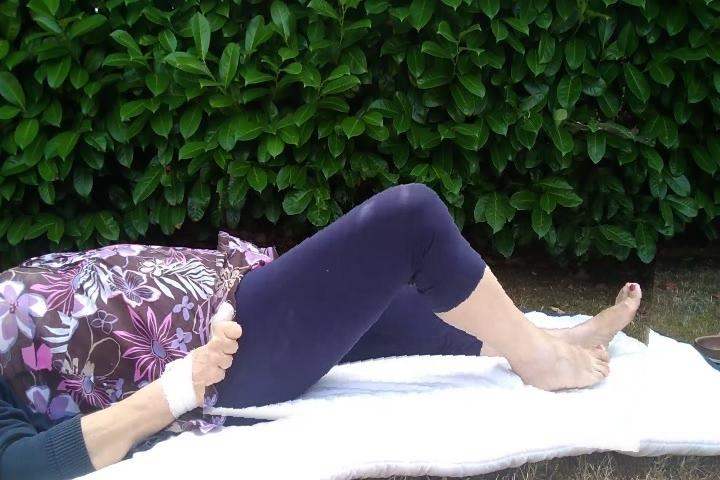lower_body: (209, 170, 657, 444)
